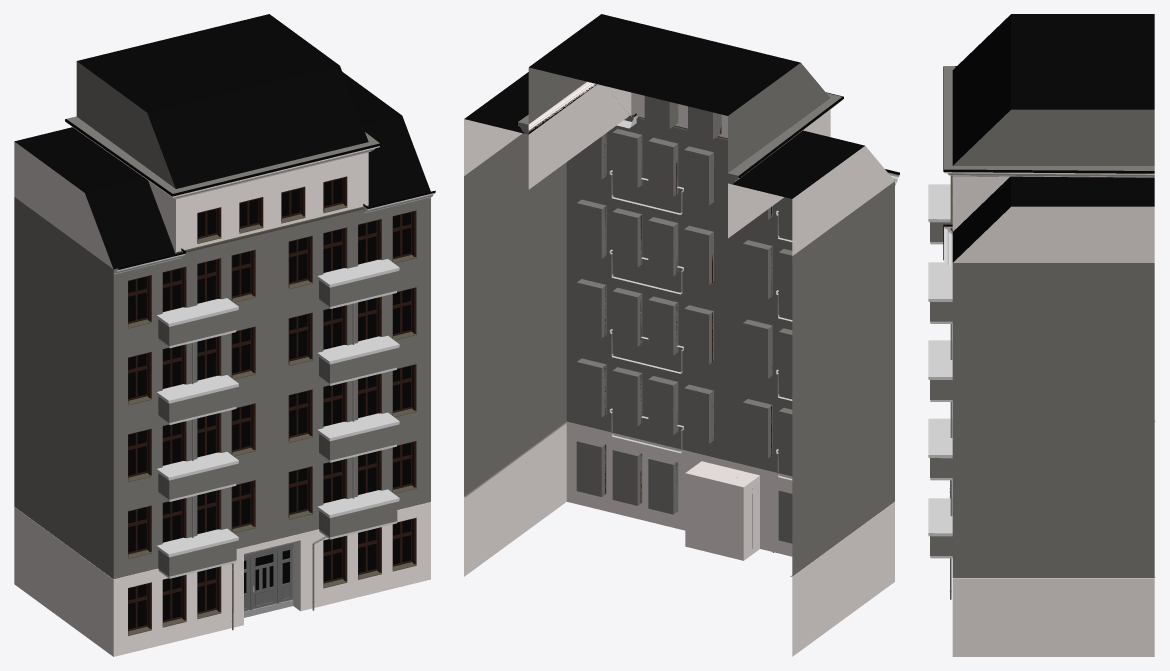
Rendered from building_grey.fbx.
3 views of the same model, side by side, from view 1: azimuth 30°, elevation 25°; view 2: azimuth 150°, elevation 25°; view 3: azimuth 270°, elevation 25° (orthographic). The views are drawn at different scales.
Visible parts, largest first — view 1: building_grey; view 2: building_grey; view 3: building_grey.
Boxes of the visible parts, x1,y1,x2,y2 form: building_grey: (14, 14, 435, 656); building_grey: (464, 14, 899, 656); building_grey: (928, 14, 1155, 656).
Bounding box in the file's own units: 733 × 1840 × 1200.
